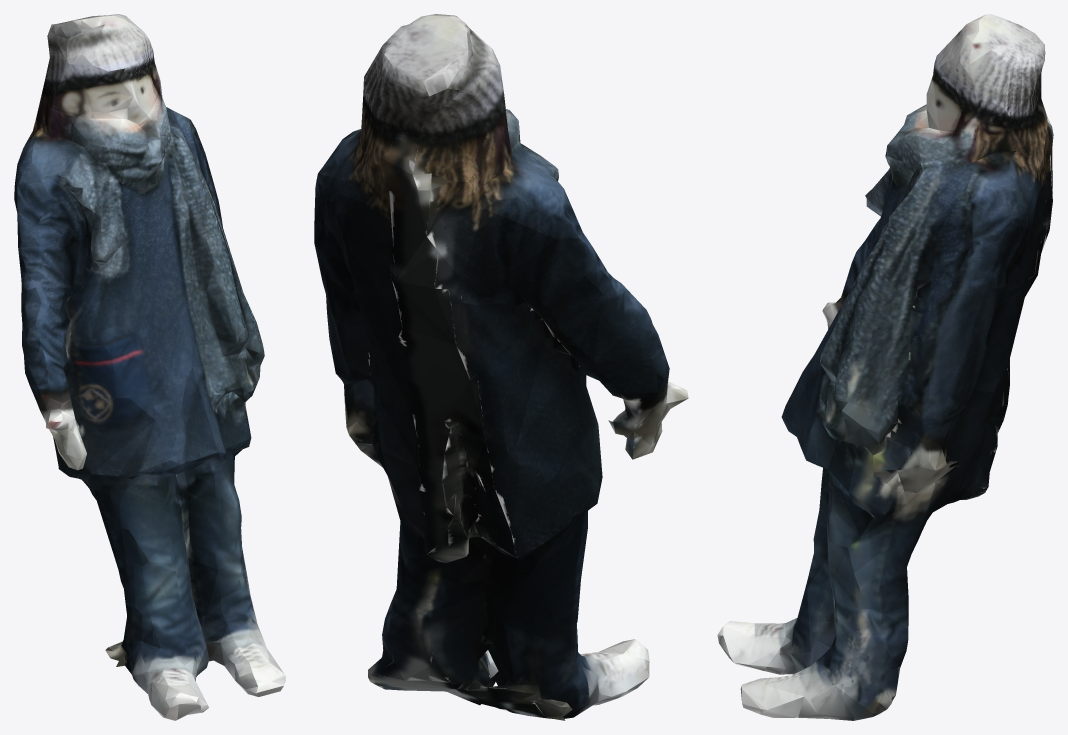
Rendered from kakashi_25b.fbx.
3 views of the same model, side by side, from view 1: azimuth 30°, elevation 25°; view 2: azimuth 150°, elevation 25°; view 3: azimuth 270°, elevation 25° (orthographic). The views are drawn at different scales.
Parts seen in each view (by area): view 1: MeshS; view 2: MeshS; view 3: MeshS.
Boxes of the visible parts, <box> form: MeshS: <box>14,14,285,720</box>; MeshS: <box>314,14,688,720</box>; MeshS: <box>717,14,1053,720</box>.
Bounding box in the file's own units: 9.88 × 24.76 × 11.5.
1 material, 1 textured.
